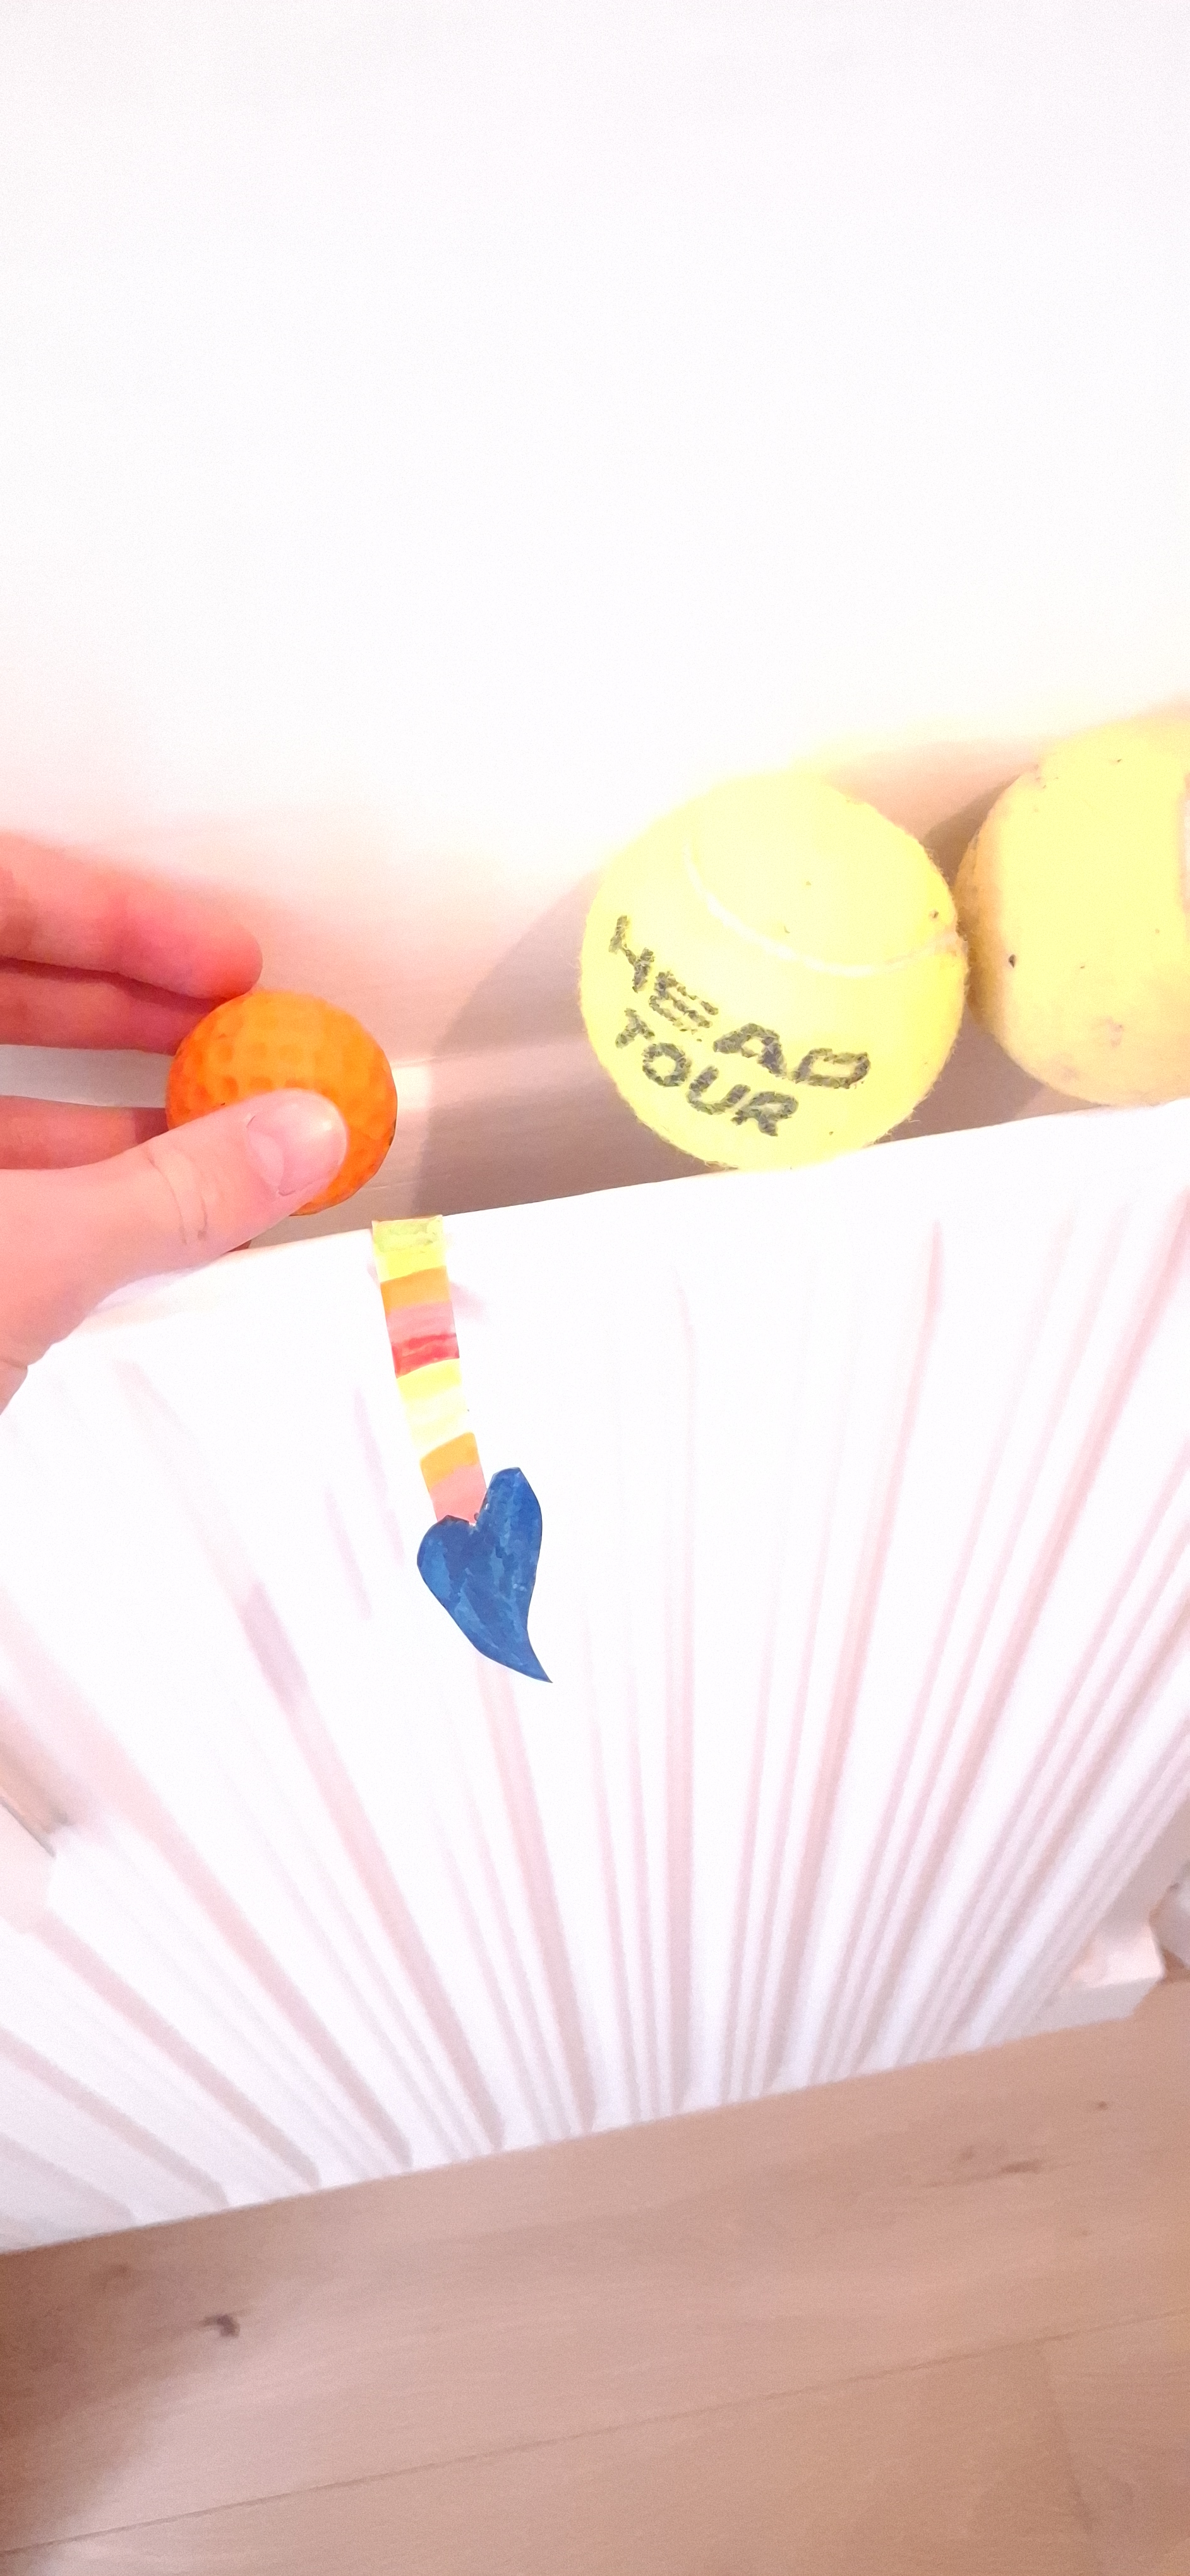ball: (459, 1709, 564, 2210)
